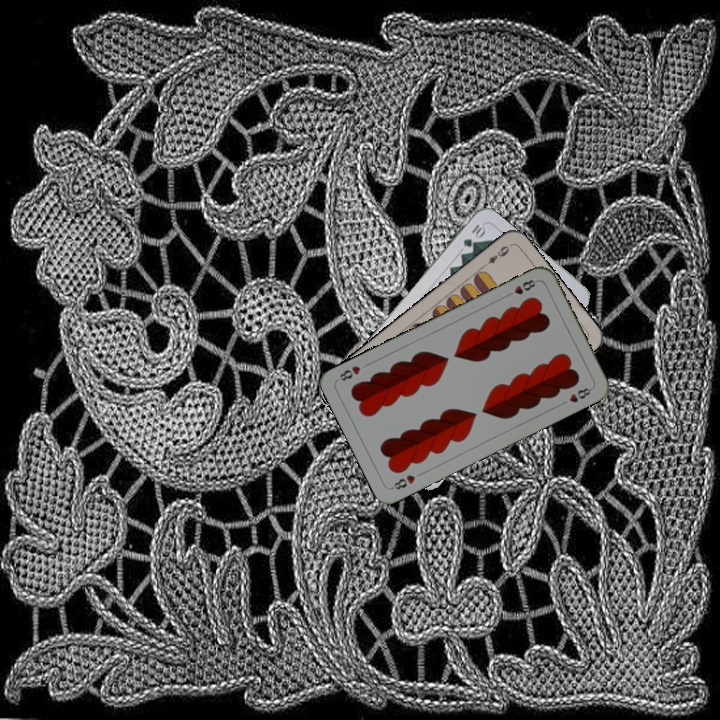E9: (478, 241, 512, 270)
G10: (459, 220, 488, 250)
H8: (502, 275, 540, 300), (387, 471, 418, 492)
